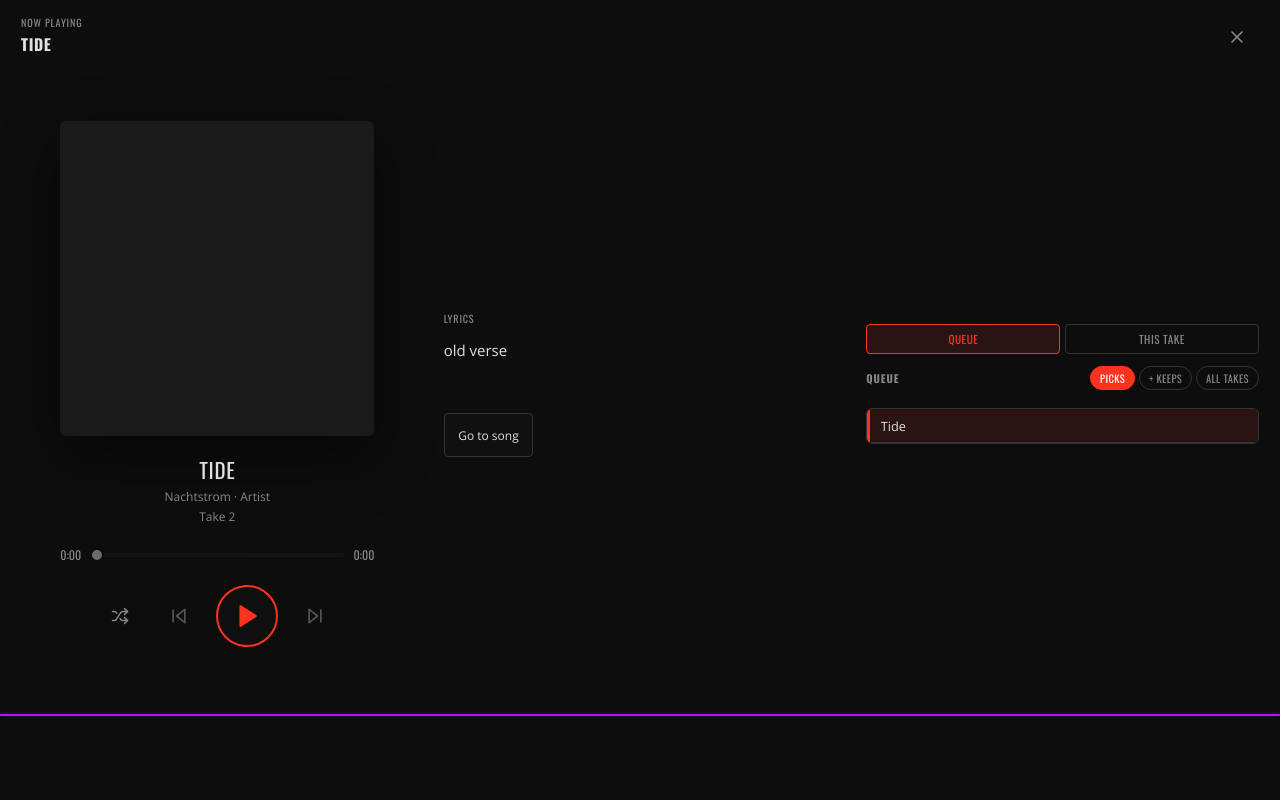
NowPlaying › toggles between Queue and This take
This screenshot has width=1280, height=800.
Expected: the element with class "np-queue" is shown, [866,366,1259,444]
Click the tab "This take".
click(1162, 339)  # box [1065,324,1259,354]
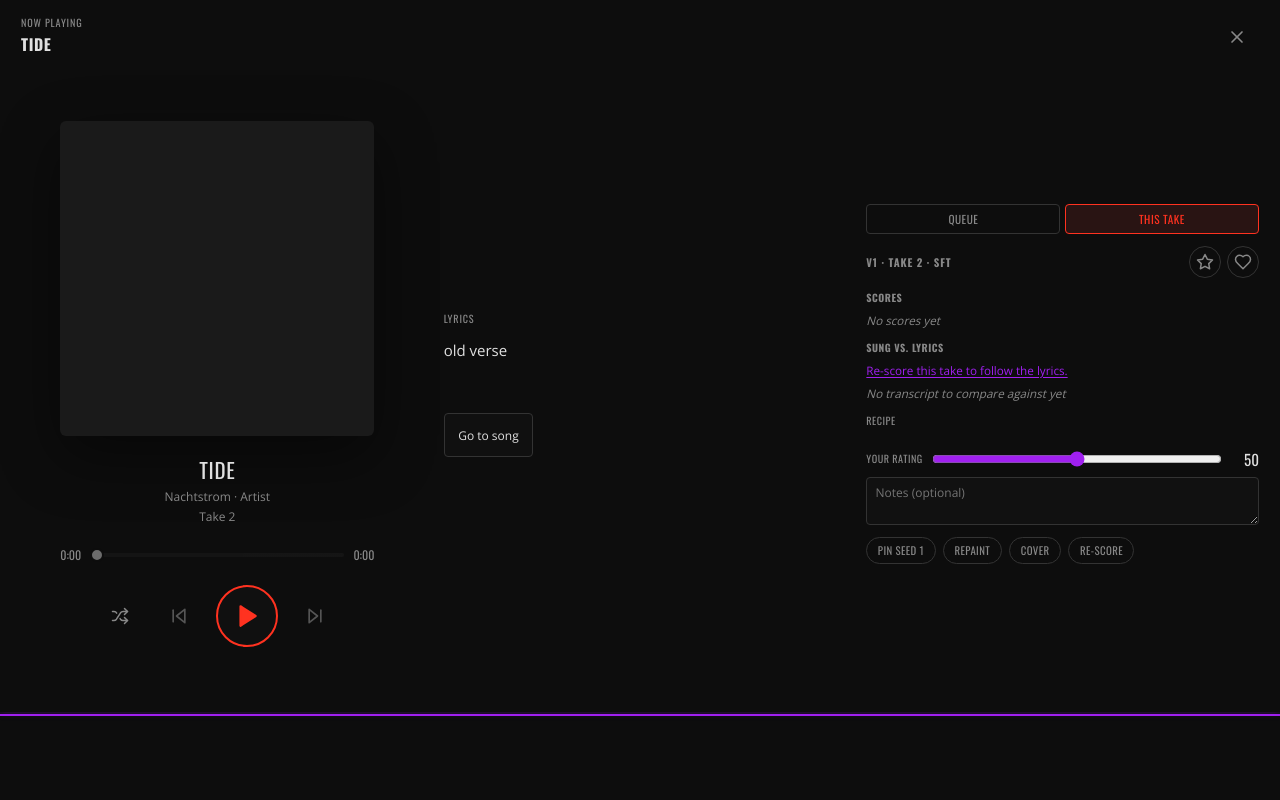
Expected: the element with class "np-queue" is gone
Expected: the element with class "np-take" is shown, [866,246,1259,564]
